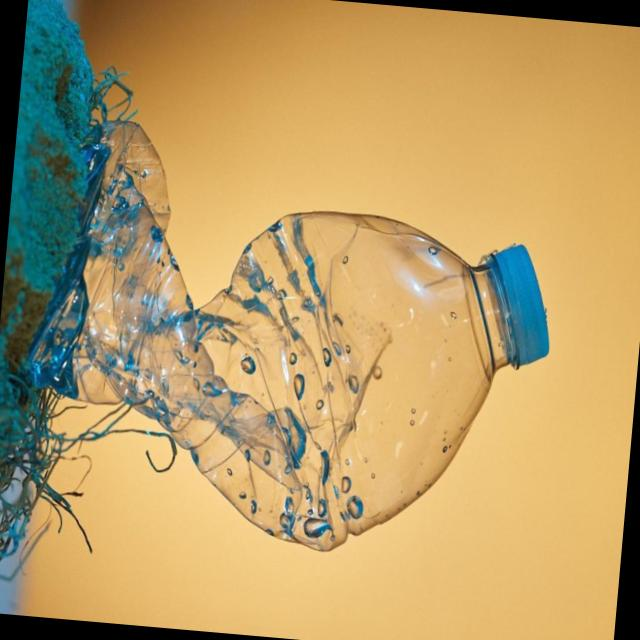plastic_bottle: (0, 0, 640, 640), (19, 152, 571, 576)
